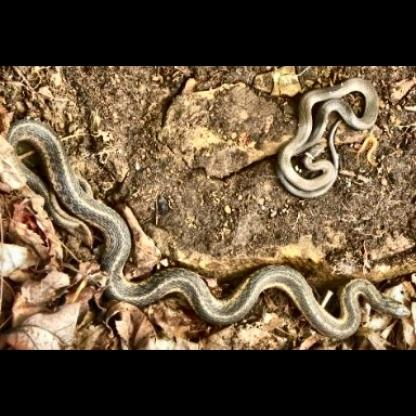Snake: (49, 209, 415, 338), (270, 75, 383, 200)
